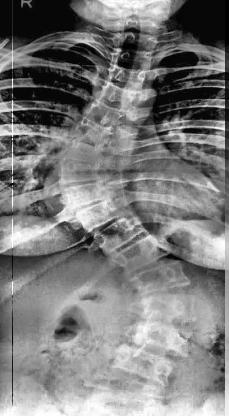Vertebrae: (114, 342, 174, 388), (130, 259, 190, 299), (131, 319, 197, 353), (116, 238, 174, 272), (96, 218, 144, 250), (143, 300, 199, 326), (73, 203, 119, 231), (63, 138, 106, 162), (98, 84, 140, 108), (60, 159, 102, 183), (62, 182, 106, 204), (82, 103, 122, 125), (71, 122, 115, 142), (117, 49, 159, 69), (110, 68, 150, 86)
